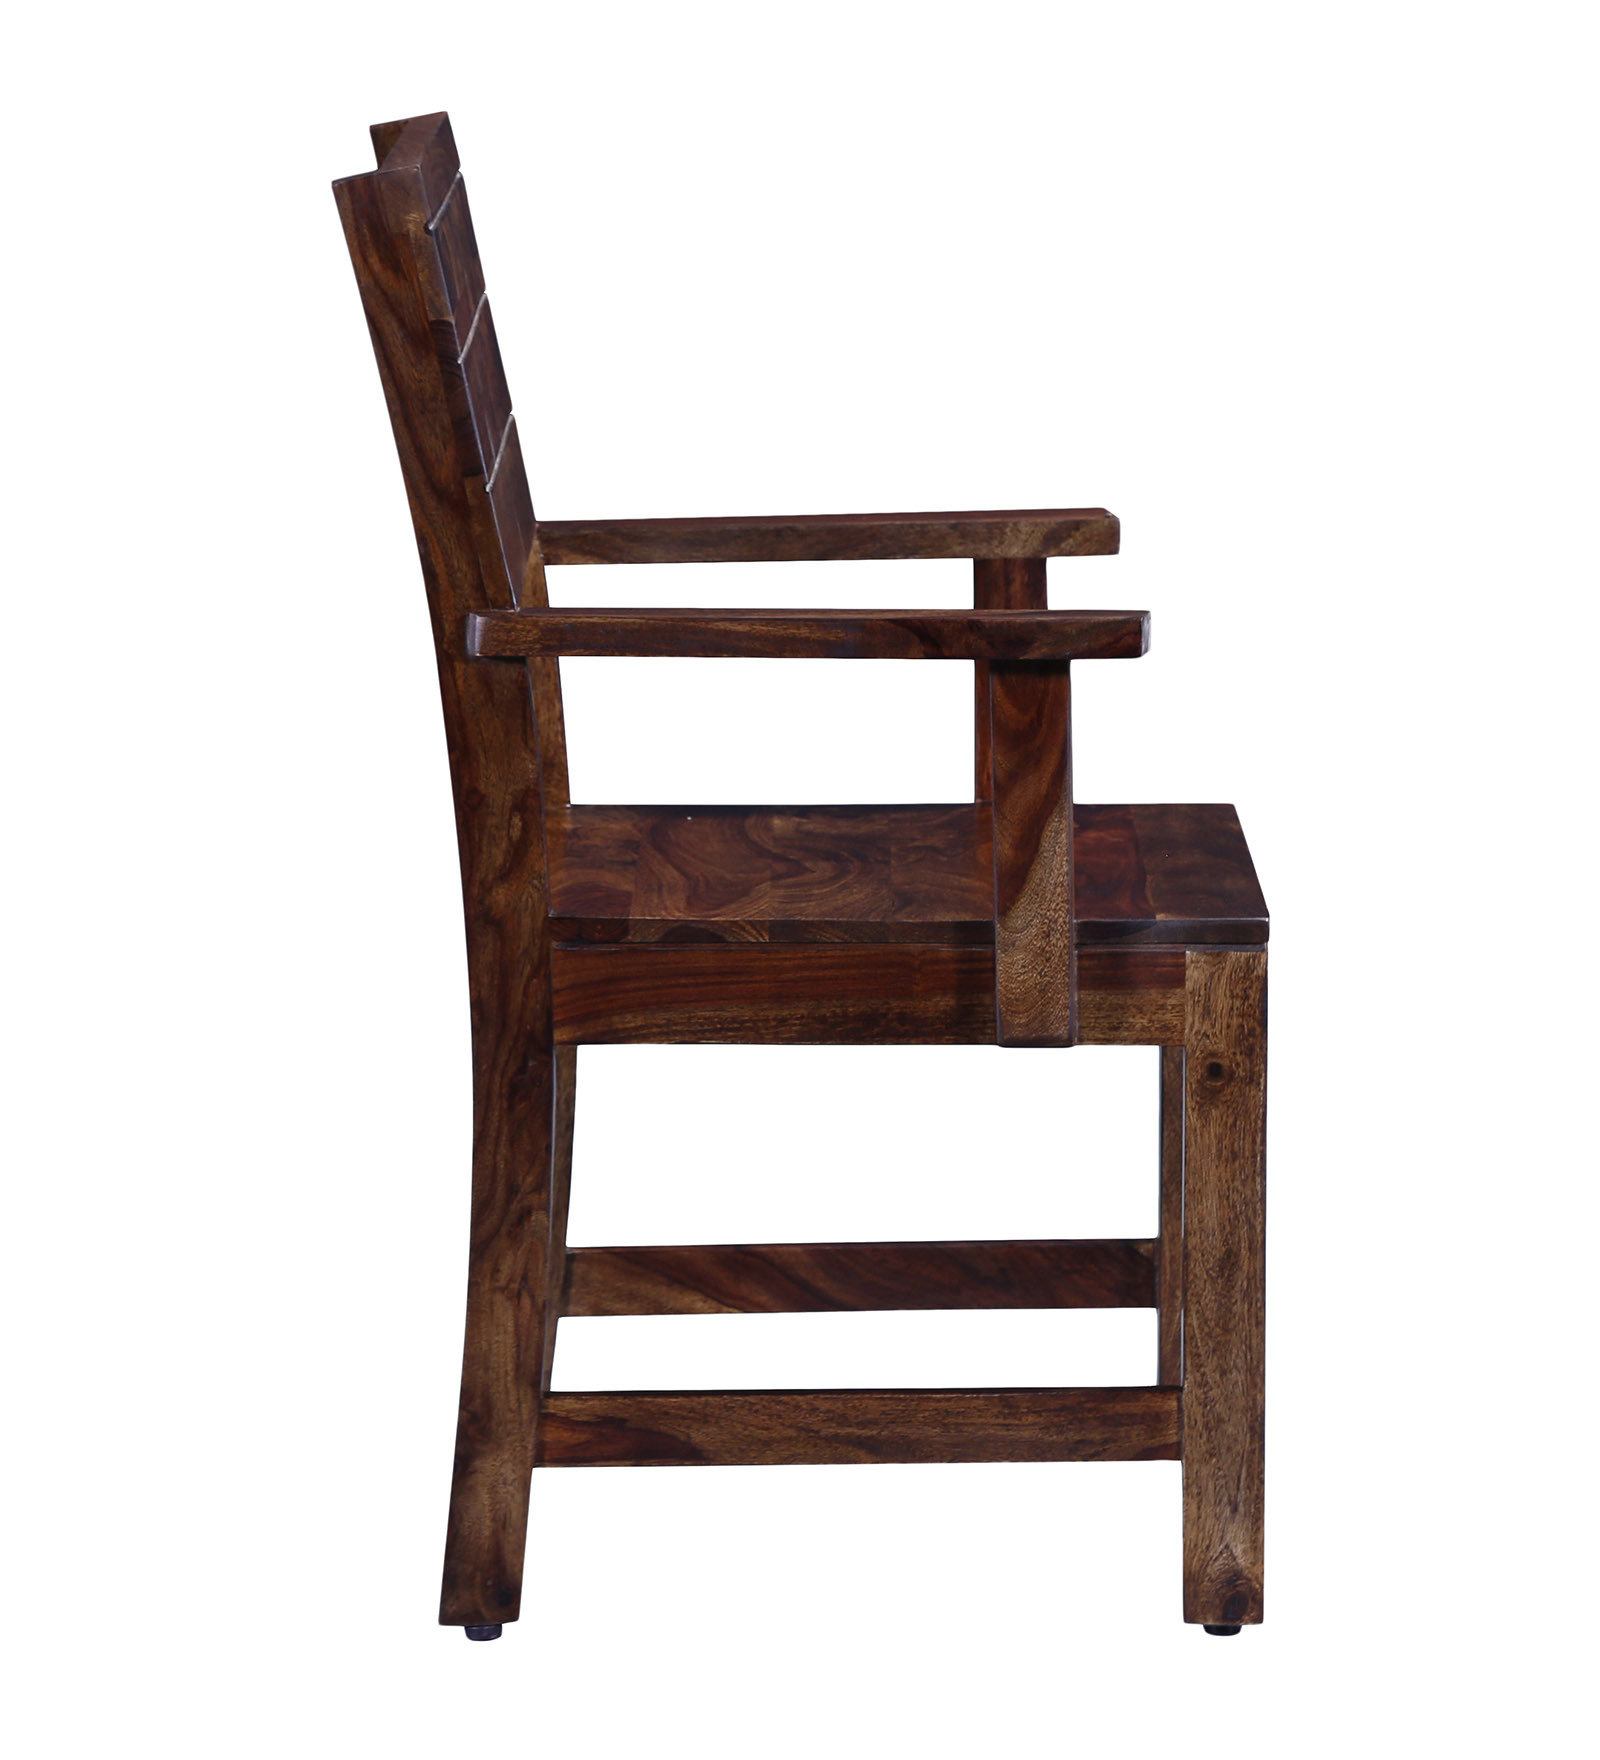Segur Arm Chair in Provincial Teak Finish by Woodsworth: (277, 80, 1329, 1673)
